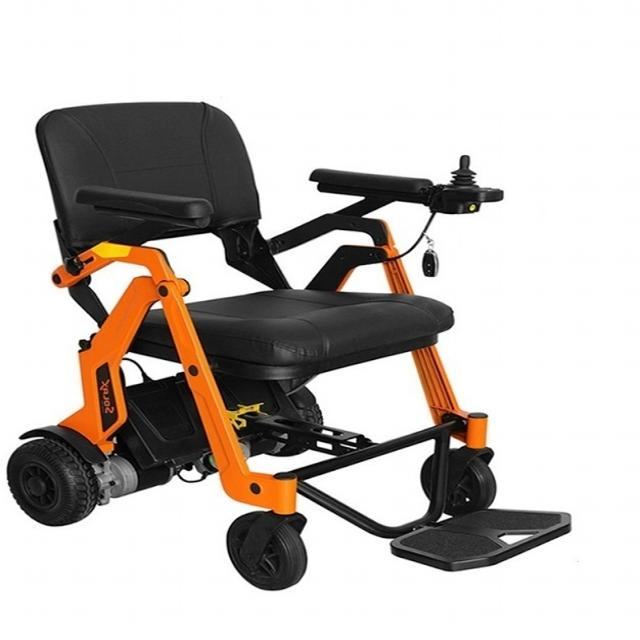wheelchair: (0, 92, 640, 608)
